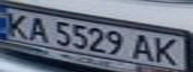2: (84, 25, 106, 54)
5: (66, 22, 90, 51), (48, 19, 72, 47)
9: (103, 28, 130, 56)
A: (127, 32, 157, 62), (24, 15, 54, 43)
K: (148, 35, 184, 66), (0, 9, 33, 39)
